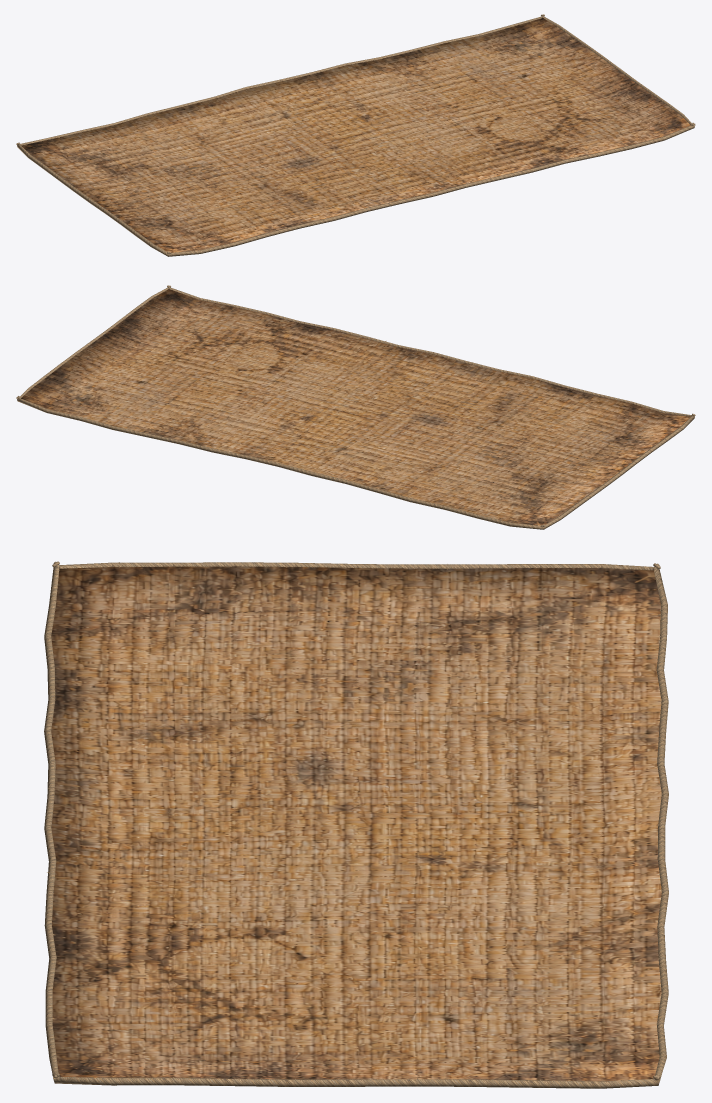
The model's file is Model_StrawSleepingMatFlat.glb.
The picture shows the model from 3 angles, top to bottom: view 1: azimuth 30°, elevation 25°; view 2: azimuth 150°, elevation 25°; view 3: azimuth 270°, elevation 25°; orthographic projection. The views are drawn at different scales.
Visible parts, largest first — view 1: Model_StrawSleepingMatFlat; view 2: Model_StrawSleepingMatFlat; view 3: Model_StrawSleepingMatFlat.
Boxes of the visible parts, <box> form: Model_StrawSleepingMatFlat: <box>16,14,695,256</box>; Model_StrawSleepingMatFlat: <box>16,285,695,529</box>; Model_StrawSleepingMatFlat: <box>44,561,668,1088</box>.
Size of the model in its own units: 1.82 by 0.0319 by 0.9238.
1 material, 1 textured.
